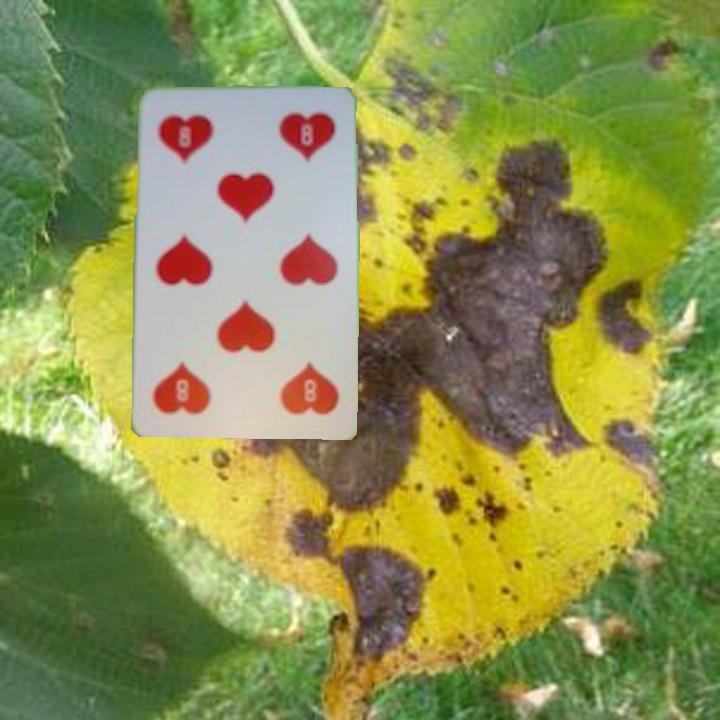h_8.png: (150, 99, 251, 187), (241, 336, 342, 424)
